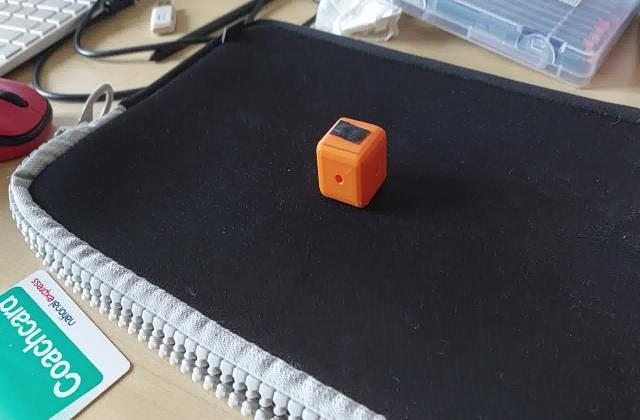black: (328, 120, 371, 148)
cube: (313, 114, 392, 206)
